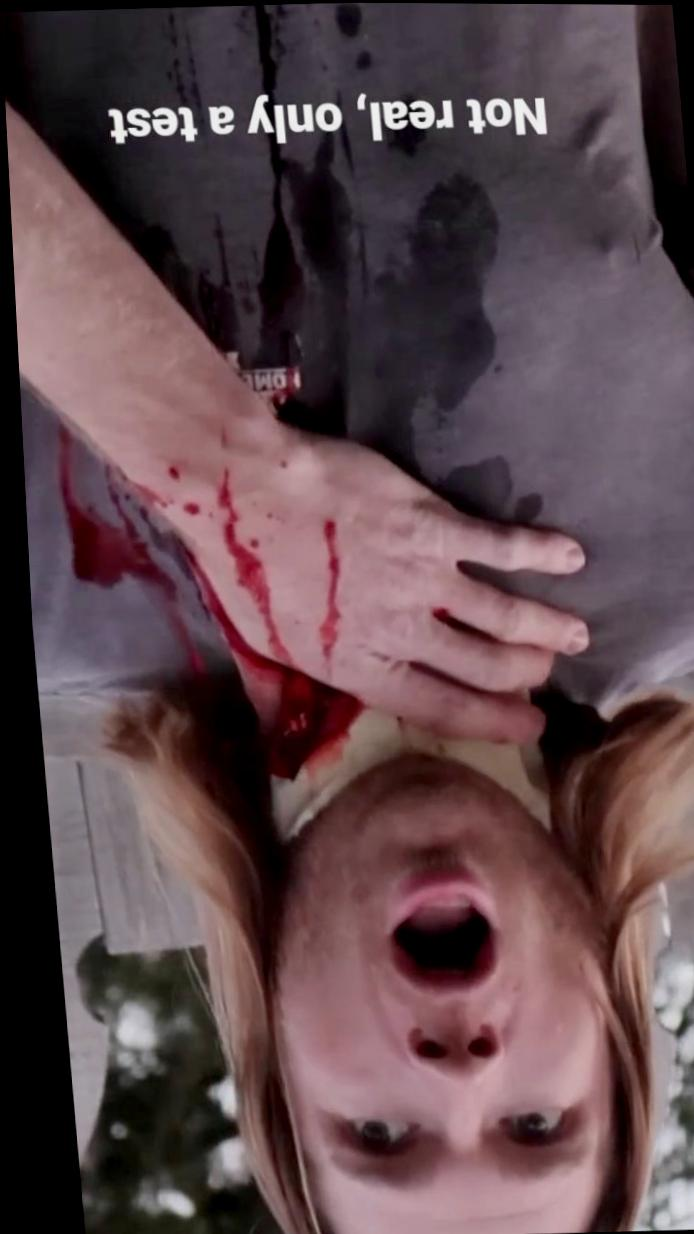Fire: (52, 426, 355, 778), (312, 518, 336, 676)
